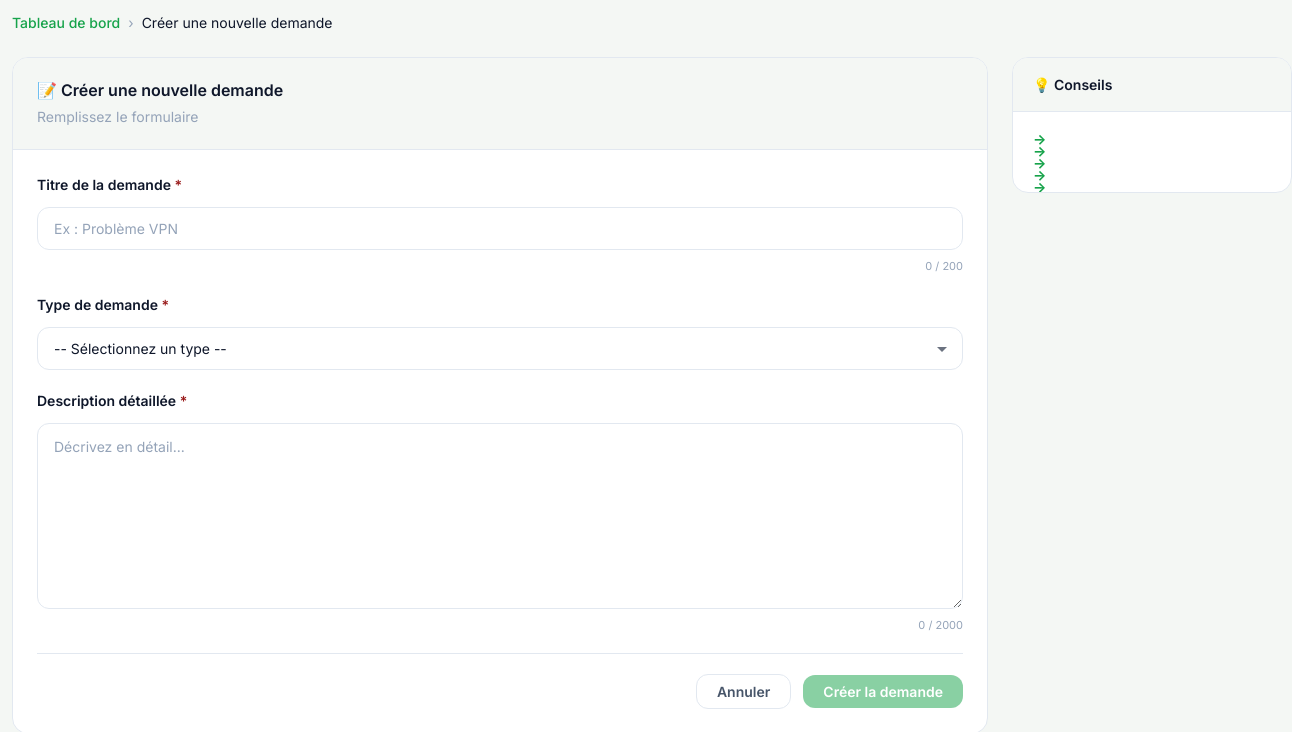
CreateRequestPage — validation des champs › le compteur de caractères du titre se met à jour
The image size is (1292, 732).
In the field labelled "Titre de la demande *": (500, 228) [37,207,963,250], type "Hello"
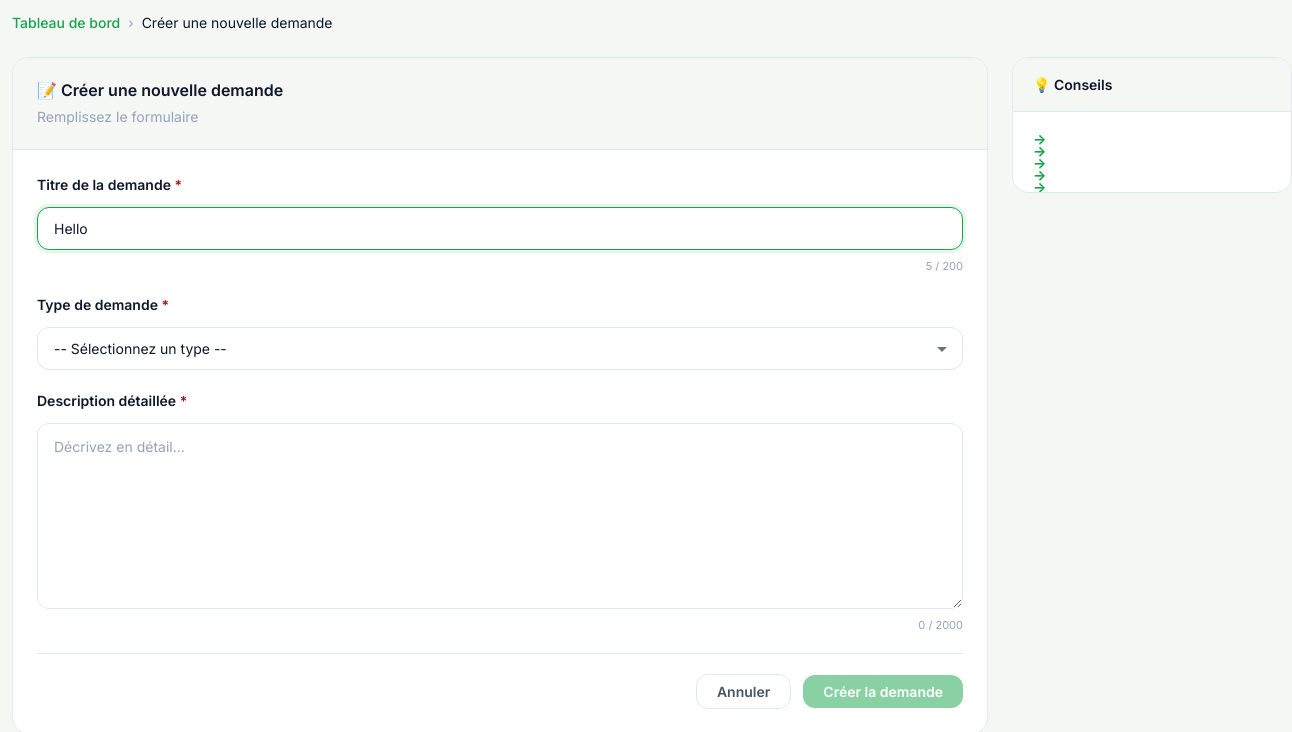
Result: the text "5 / 200" is shown at [926,258,963,274]
